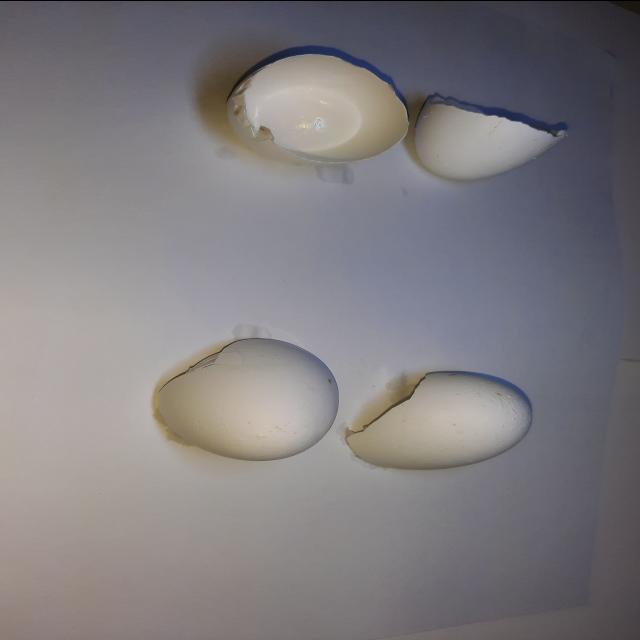egg shell: (150, 334, 343, 464), (222, 50, 418, 167), (341, 365, 538, 472), (412, 90, 578, 184)
